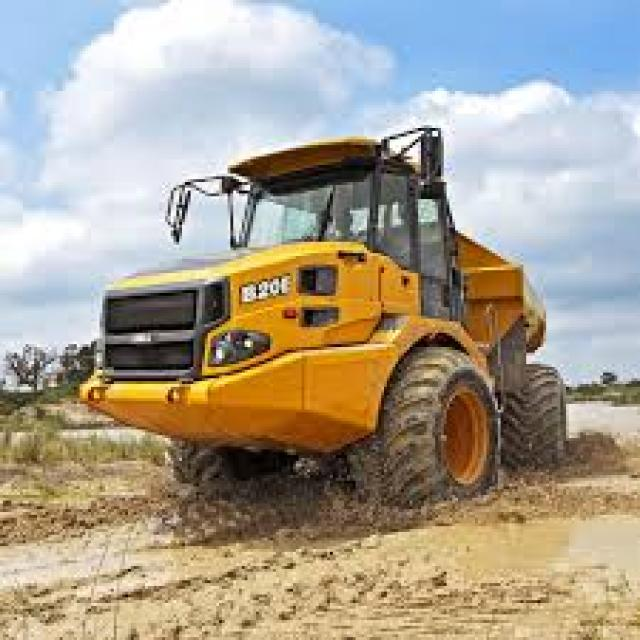dump_truck: (91, 131, 600, 526)
